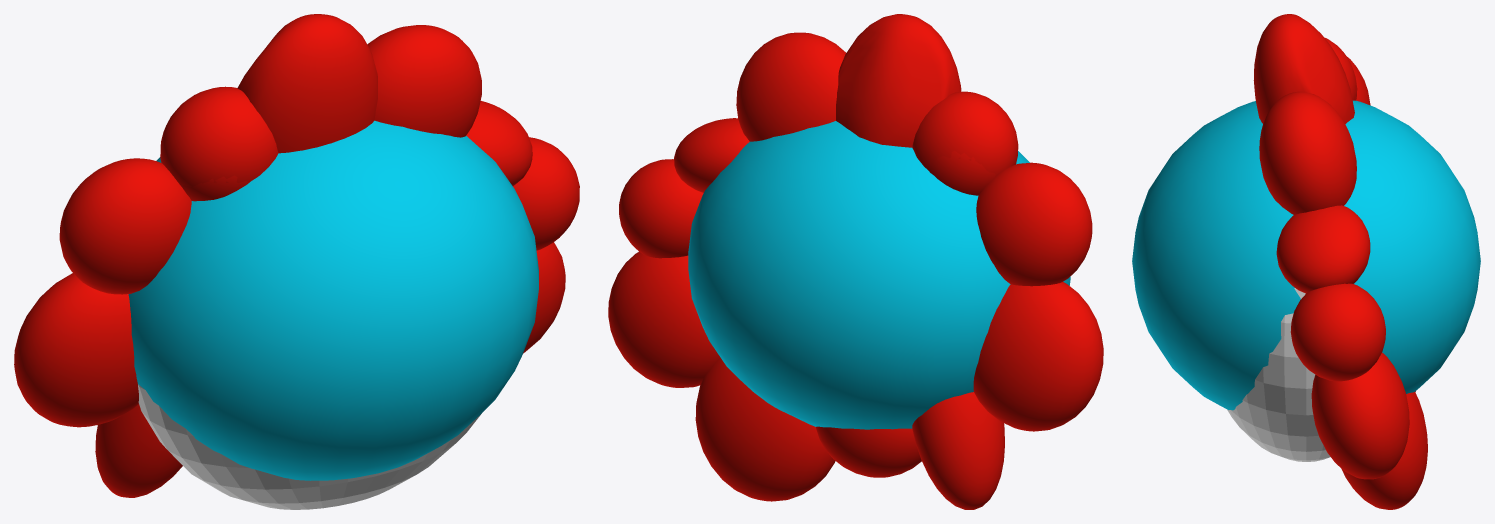
File: ミャク.glb
3 views of the same model, side by side, from view 1: azimuth 30°, elevation 25°; view 2: azimuth 150°, elevation 25°; view 3: azimuth 270°, elevation 25° (orthographic). The views are drawn at different scales.
Visible parts, largest first — view 1: Sphere.001, Sphere.012; view 2: Sphere.001; view 3: Sphere.001, Sphere.012.
Part boxes in pixels (left/top/right/bottom): Sphere.001: left=14, top=14, right=579, bottom=497; Sphere.012: left=138, top=384, right=481, bottom=509; Sphere.001: left=608, top=14, right=1103, bottom=509; Sphere.001: left=1132, top=14, right=1480, bottom=509; Sphere.012: left=1227, top=288, right=1330, bottom=461.
Bounding box in the file's own units: 2.2 × 2.03 × 1.44.
